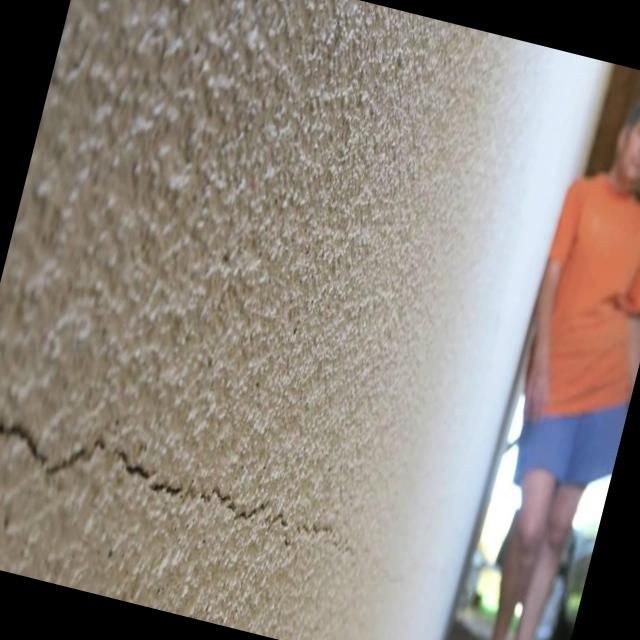crack: (0, 419, 338, 539)
